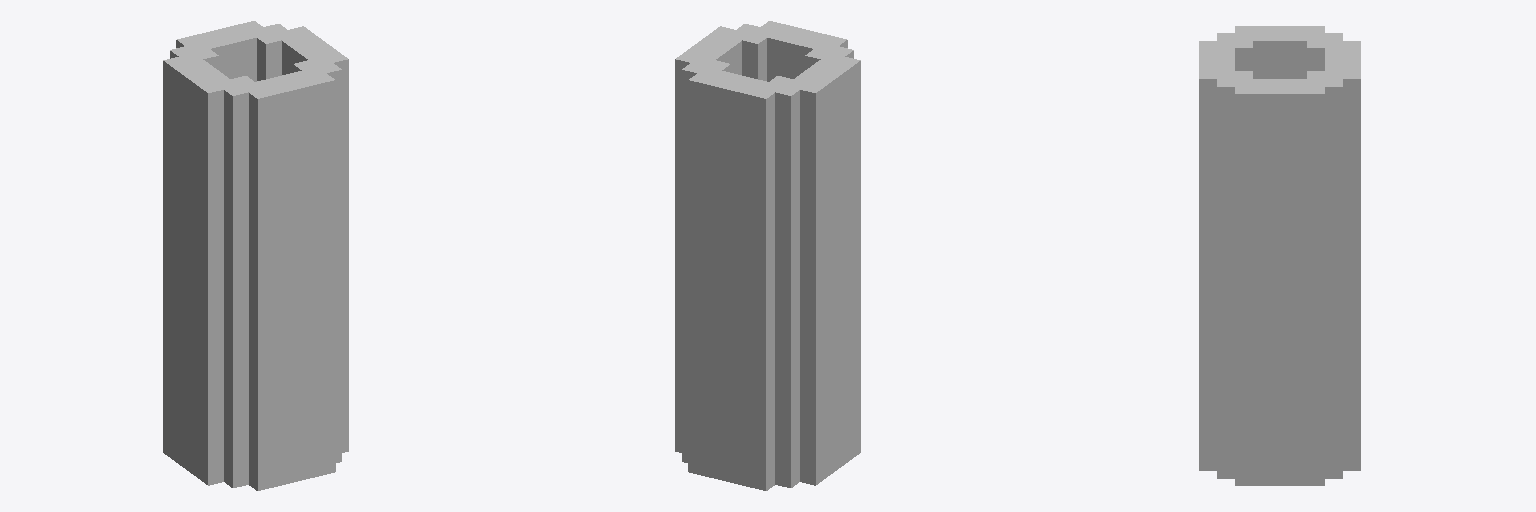
Rendered from closed blueprint.obj.
The picture shows the model from 3 angles: view 1: azimuth 30°, elevation 25°; view 2: azimuth 150°, elevation 25°; view 3: azimuth 270°, elevation 25°; orthographic projection.
Parts seen in each view (by area): view 1: object 1; view 2: object 1; view 3: object 1.
Part boxes in pixels (bbox=[...]): object 1: bbox=[163, 21, 348, 490]; object 1: bbox=[675, 21, 860, 490]; object 1: bbox=[1199, 26, 1360, 485].
Bounding box in the file's own units: 0.9 × 2.4 × 0.9.